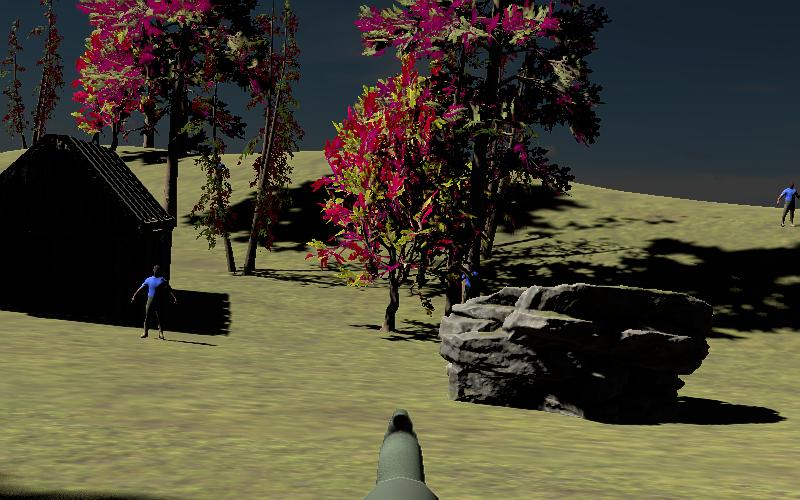Human: (129, 263, 178, 341), (776, 181, 800, 229)
